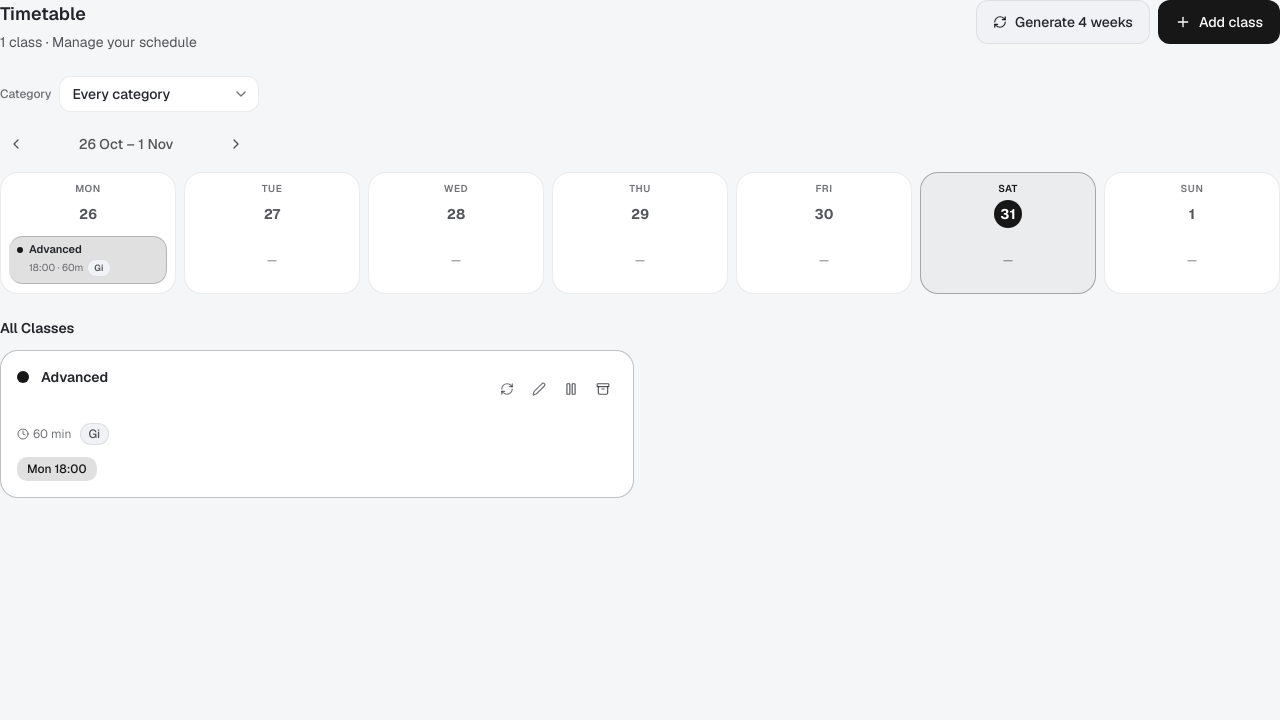
Scenario: class form — Category › offers Uncategorised and the eight categories, and starts on the class's own
Click the button with aria-label "Edit Advanced" at [88, 260], box [9,236,167,284]
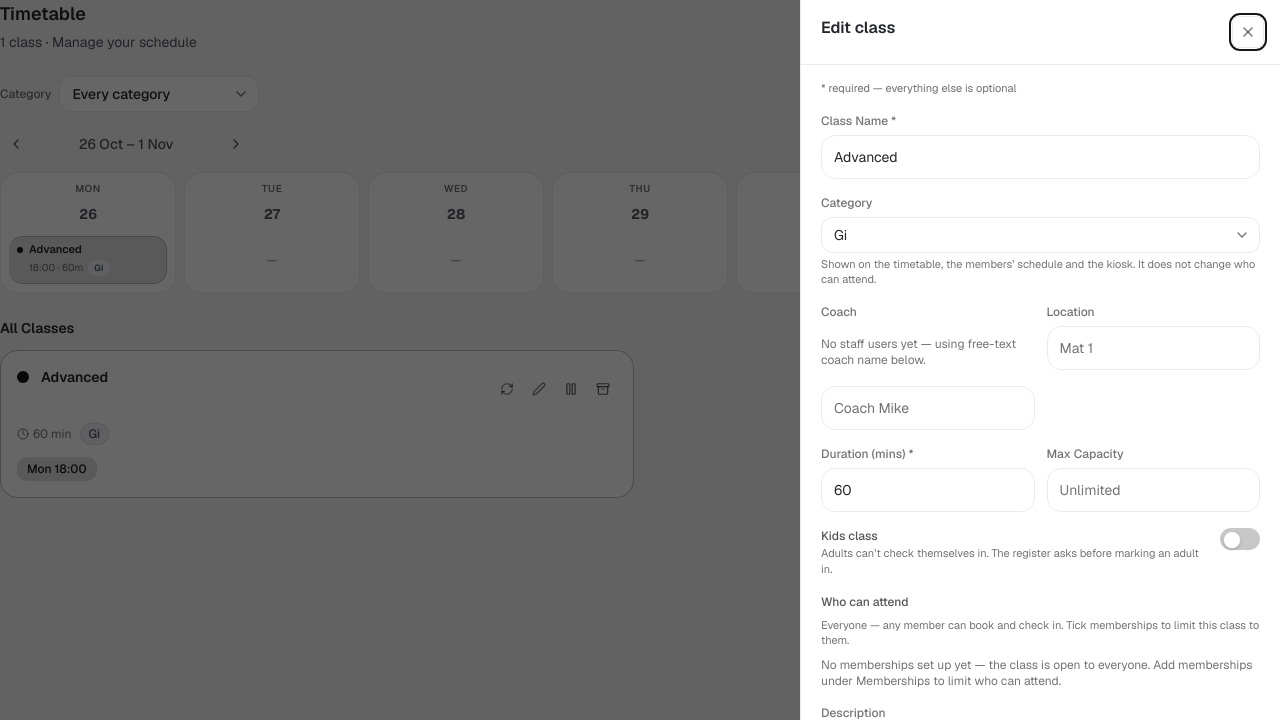
Expected: the dropdown labelled "Category" shows "Gi", [821,217,1260,253]
